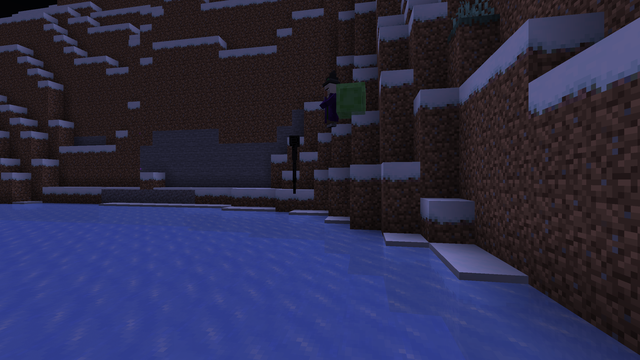endermens: (287, 133, 301, 192)
slimes: (335, 80, 365, 118)
sorcieres: (323, 81, 337, 128)
